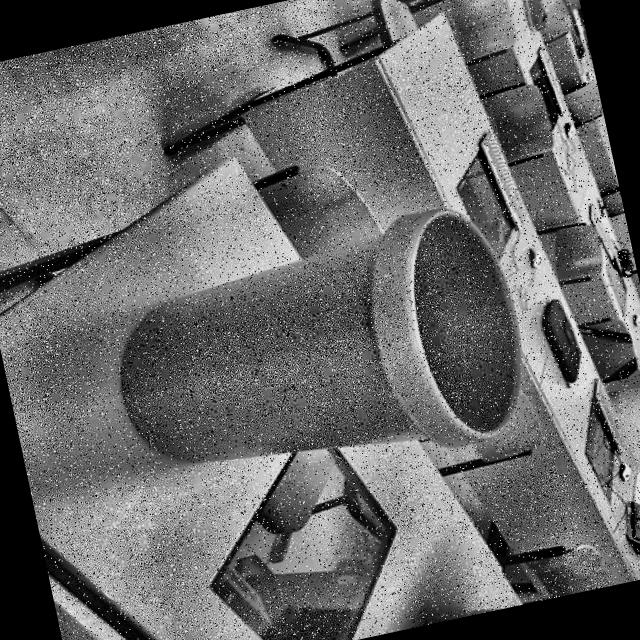Dustbin: (75, 182, 582, 548)
